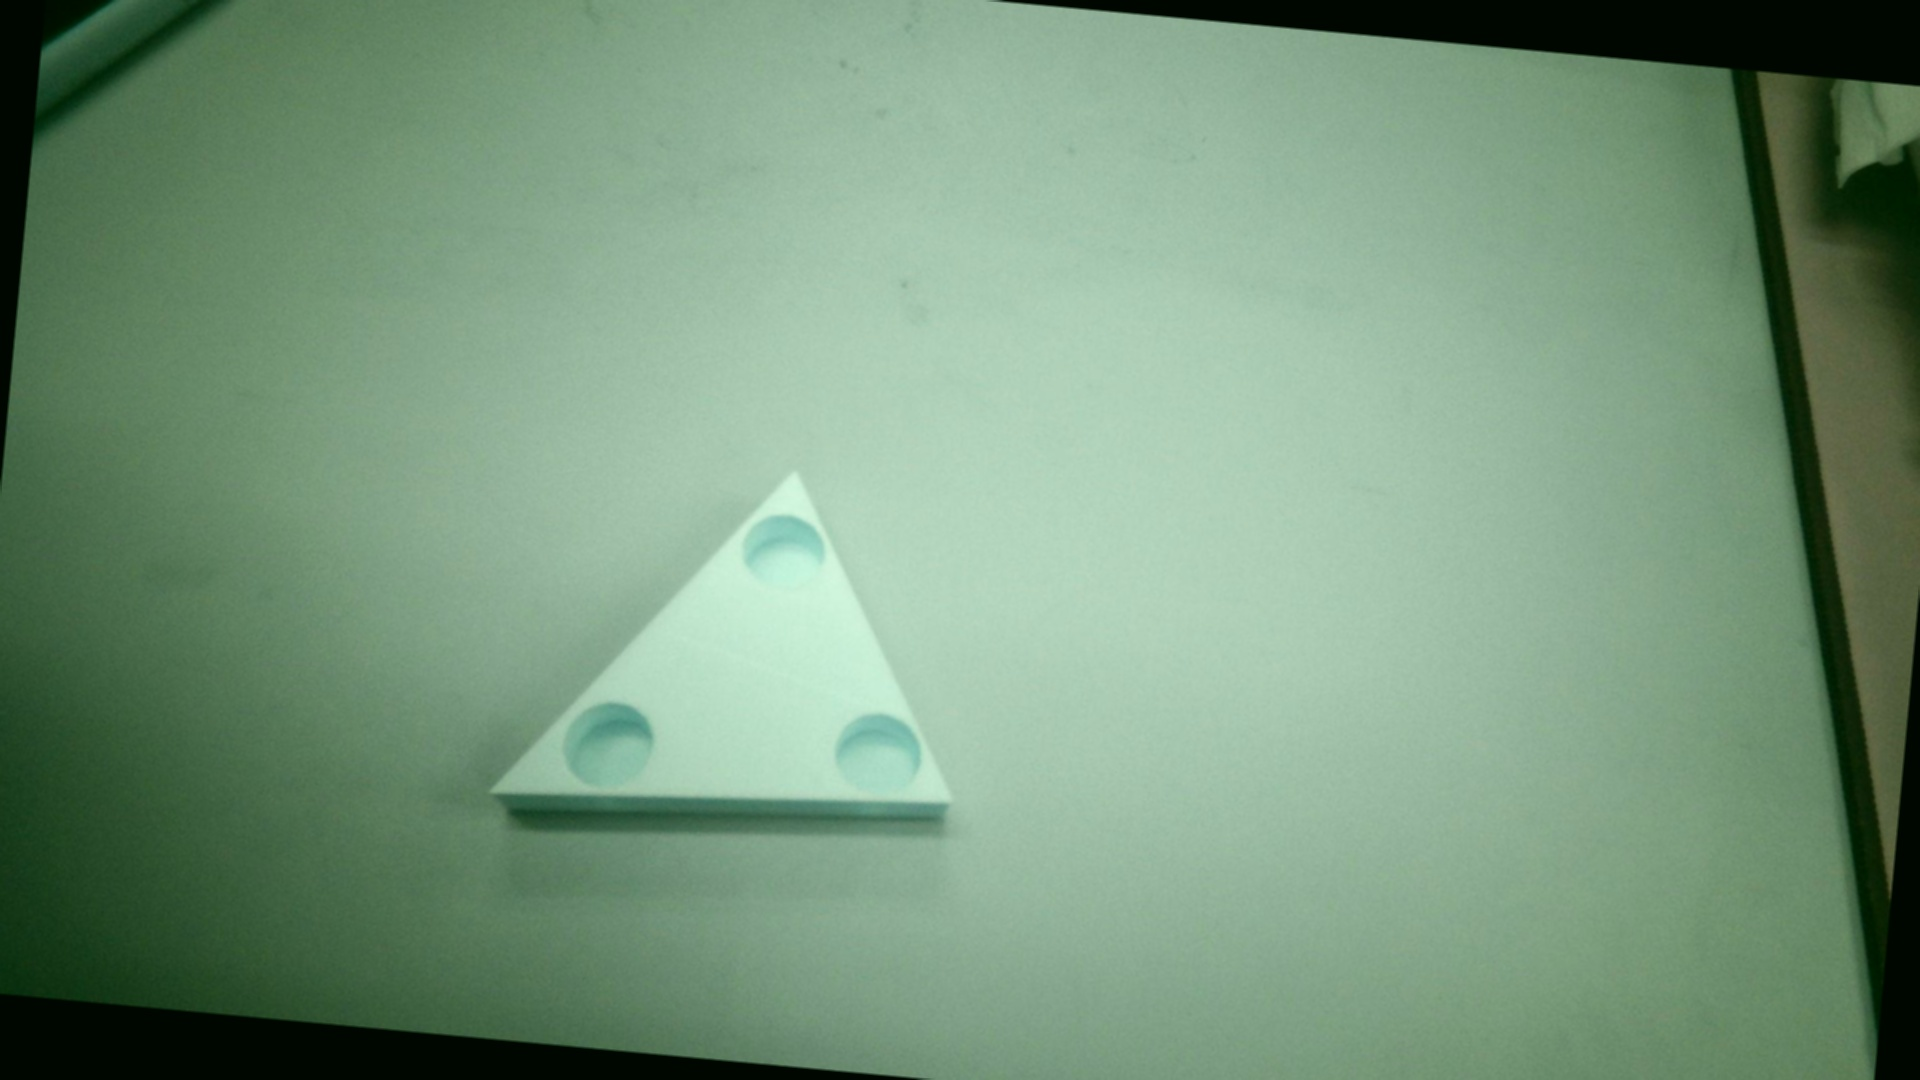hole: (822, 694, 924, 816), (737, 505, 841, 597), (556, 702, 653, 793)
obj: (473, 429, 993, 870)
